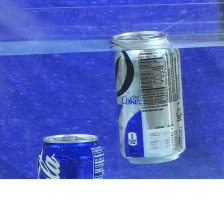can: (105, 26, 197, 167), (33, 130, 107, 179)
